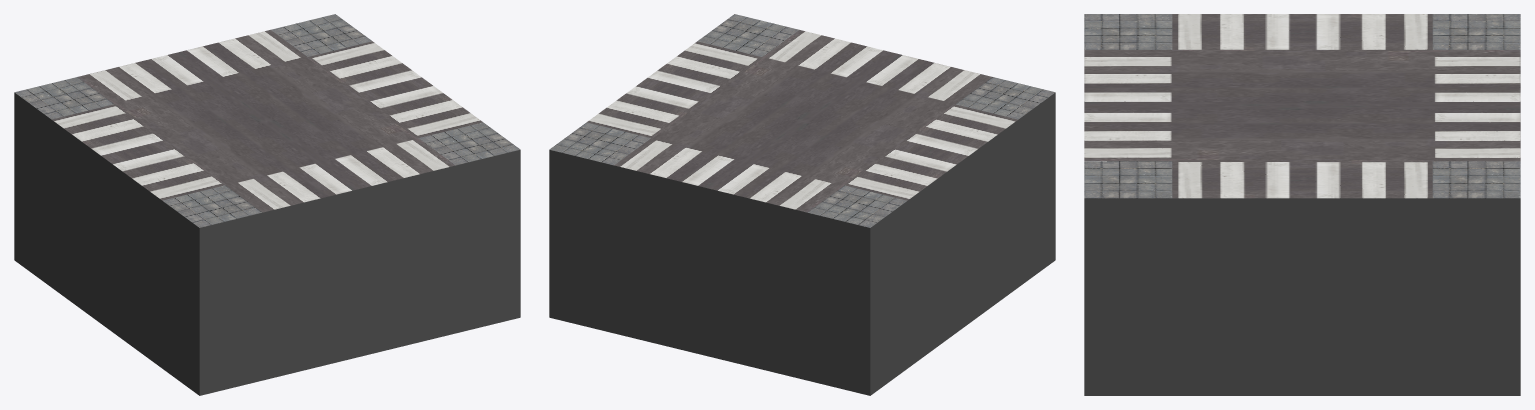
Rendered from Road_2.fbx.
3 views of the same model, side by side, from view 1: azimuth 30°, elevation 25°; view 2: azimuth 150°, elevation 25°; view 3: azimuth 270°, elevation 25° (orthographic). The views are drawn at different scales.
Visible parts, largest first — view 1: mqo_mesh.002; view 2: mqo_mesh.002; view 3: mqo_mesh.002.
Part boxes in pixels (x1=…): mqo_mesh.002: x1=14, y1=14, x2=520, y2=395; mqo_mesh.002: x1=549, y1=14, x2=1055, y2=395; mqo_mesh.002: x1=1084, y1=14, x2=1520, y2=395.
Size of the model in its own units: 5000 by 2500 by 5000.
